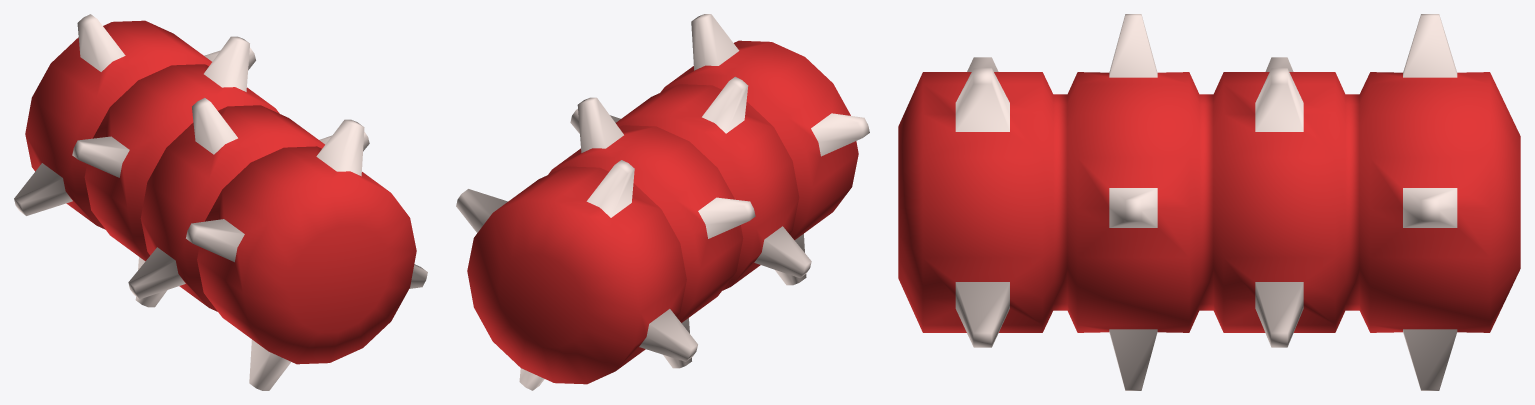
3 views of the same model, side by side, from view 1: azimuth 30°, elevation 25°; view 2: azimuth 150°, elevation 25°; view 3: azimuth 270°, elevation 25° (orthographic). The views are drawn at different scales.
Parts seen in each view (by area): view 1: Cylinder.001; view 2: Cylinder.001; view 3: Cylinder.001.
Part boxes in pixels (<box>): Cylinder.001: <box>14,14,427,390</box>; Cylinder.001: <box>456,14,869,390</box>; Cylinder.001: <box>898,14,1520,390</box>.
Bounding box in the file's own units: 2.12 × 2.12 × 3.73.
